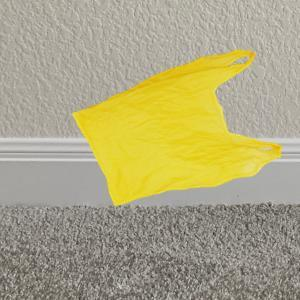plastic_bag: (69, 45, 286, 211)
